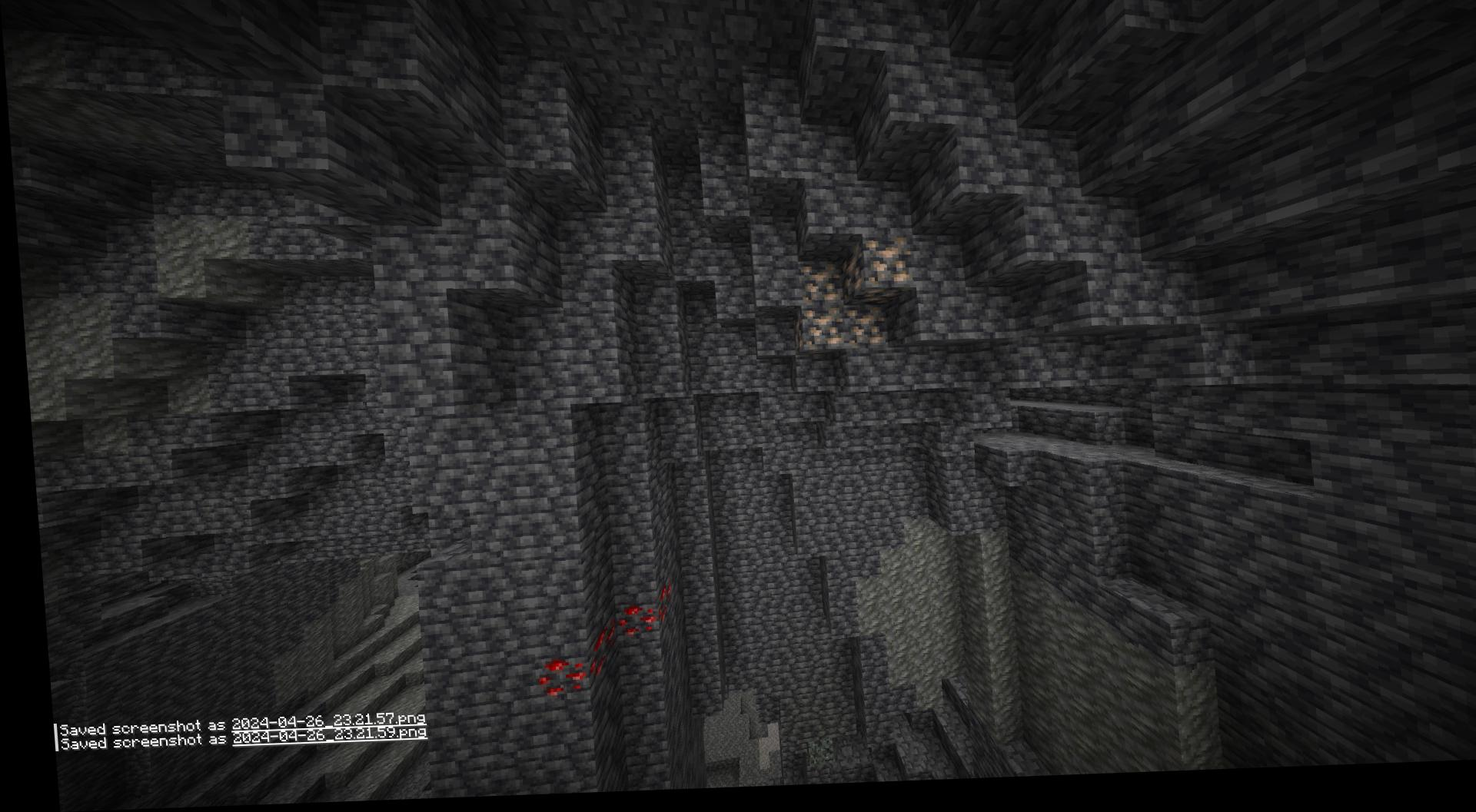iron ore: (839, 243, 904, 306), (790, 311, 839, 357), (840, 306, 881, 357), (792, 269, 838, 311)
redstone ore: (532, 634, 604, 698), (606, 585, 668, 637)
